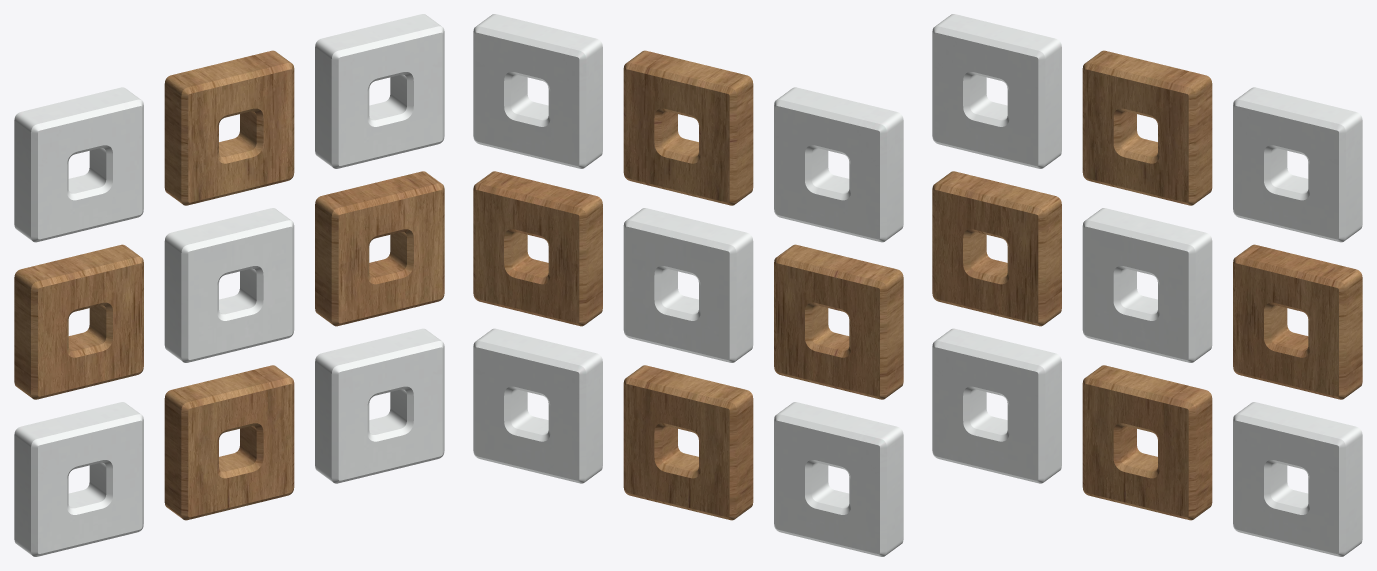
The model's file is patterns.glb.
The picture shows the model from 3 angles, left to right: view 1: azimuth 30°, elevation 25°; view 2: azimuth 150°, elevation 25°; view 3: azimuth 330°, elevation 25°; orthographic projection.
Parts seen in each view (by area): view 1: Icon; view 2: Icon; view 3: Icon.
Part boxes in pixels (box(x1,y1,x2,y2)): Icon: box(14, 14, 444, 556); Icon: box(473, 14, 903, 556); Icon: box(932, 14, 1362, 556).
Bounding box in the file's own units: 0.2 × 0.2 × 0.0182.
Materials: 2 (2 with a texture image).
